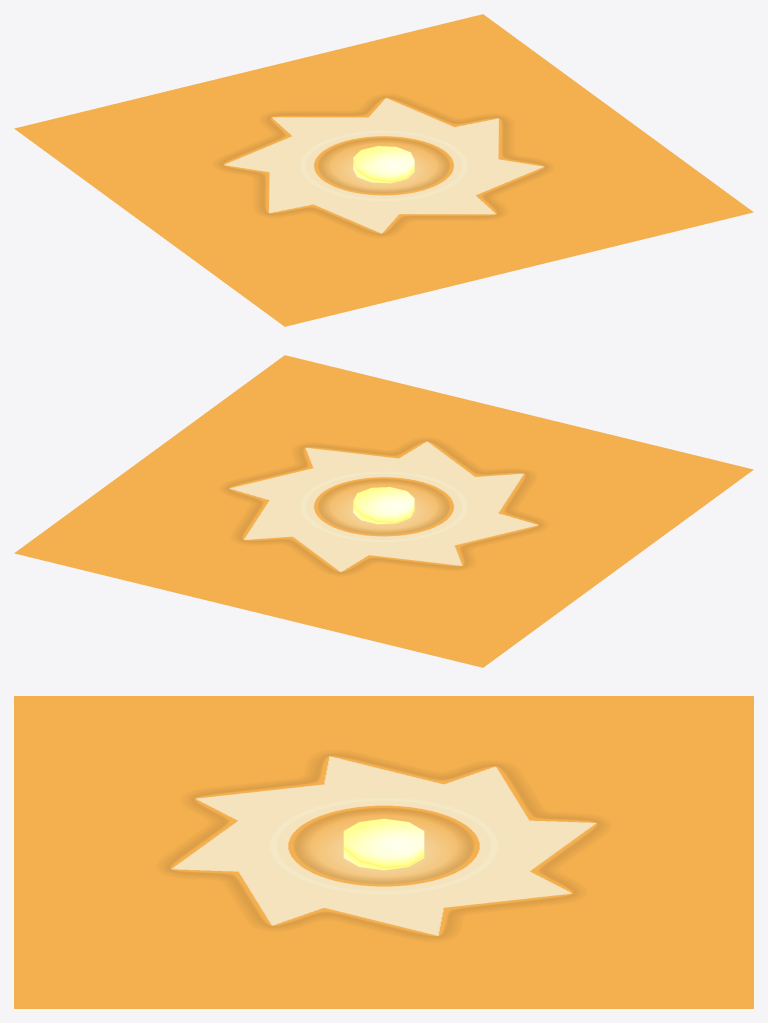
Rendered from fx_chakram_asc.glb.
The picture shows the model from 3 angles, top to bottom: view 1: azimuth 30°, elevation 25°; view 2: azimuth 150°, elevation 25°; view 3: azimuth 270°, elevation 25°; orthographic projection. The views are drawn at different scales.
Parts seen in each view (by area): view 1: fx_chakram_halo, fx_chakram, fx_chakram_metal; view 2: fx_chakram_halo, fx_chakram, fx_chakram_metal; view 3: fx_chakram_halo, fx_chakram, fx_chakram_metal.
Part boxes in pixels (x1,y1,x2,y2): fx_chakram_halo: [14, 14, 753, 326]; fx_chakram: [219, 96, 548, 235]; fx_chakram_metal: [353, 146, 414, 183]; fx_chakram_halo: [14, 355, 753, 667]; fx_chakram: [225, 440, 542, 573]; fx_chakram_metal: [353, 487, 414, 524]; fx_chakram_halo: [14, 696, 753, 1008]; fx_chakram: [165, 754, 602, 938]; fx_chakram_metal: [343, 818, 424, 870].
Bounding box in the file's own units: 2.1 × 0.05 × 2.1.
Materials: 3 (2 with a texture image).
